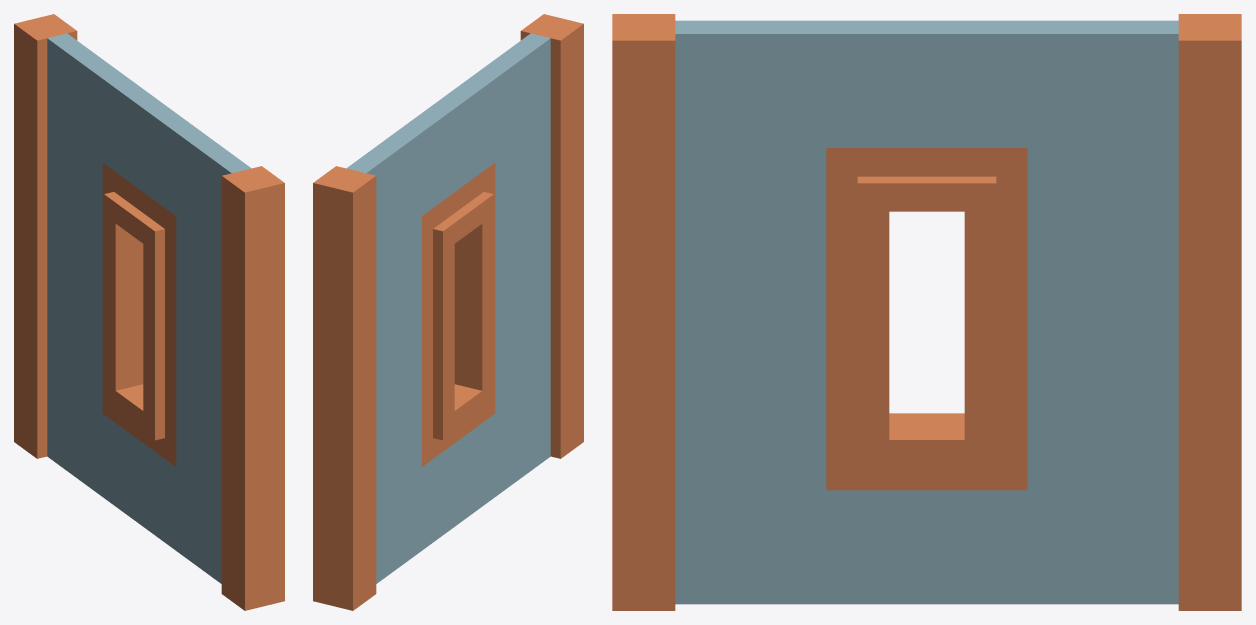
Rendered from wallWindowSmall.fbx.
The picture shows the model from 3 angles, left to right: view 1: azimuth 30°, elevation 25°; view 2: azimuth 150°, elevation 25°; view 3: azimuth 270°, elevation 25°; orthographic projection. The views are drawn at different scales.
Parts seen in each view (by area): view 1: wallWindowSmall; view 2: wallWindowSmall; view 3: wallWindowSmall.
Part boxes in pixels (box(x1,y1,x2,y2)): wallWindowSmall: box(14, 14, 284, 610); wallWindowSmall: box(313, 14, 583, 610); wallWindowSmall: box(612, 14, 1241, 610).
Bounding box in the file's own units: 1 × 10 × 10.
